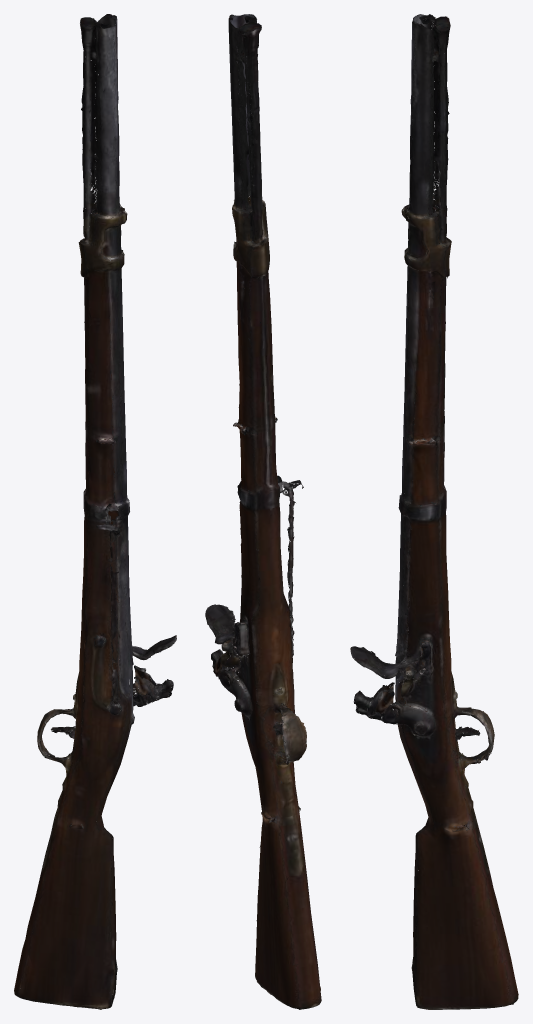
File: grandsire-gun.glb
The picture shows the model from 3 angles, left to right: view 1: azimuth 90°, elevation 25°; view 2: azimuth 210°, elevation 25°; view 3: azimuth 270°, elevation 25°; orthographic projection. The views are drawn at different scales.
Parts seen in each view (by area): view 1: grandsire-gun; view 2: grandsire-gun; view 3: grandsire-gun.
Part boxes in pixels (bbox=[...]): grandsire-gun: bbox=[14, 14, 176, 1009]; grandsire-gun: bbox=[205, 14, 321, 1009]; grandsire-gun: bbox=[350, 14, 518, 1009].
Size of the model in its own units: 0.1161 by 1.5 by 0.2282.
1 material, 1 textured.
